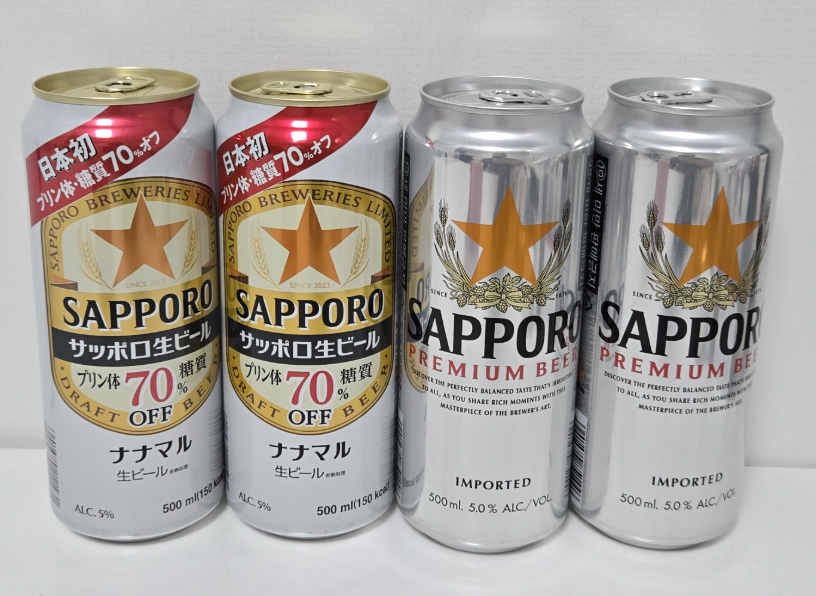beer-can: (576, 75, 784, 549), (22, 68, 224, 544), (394, 74, 594, 554), (215, 70, 401, 545)
